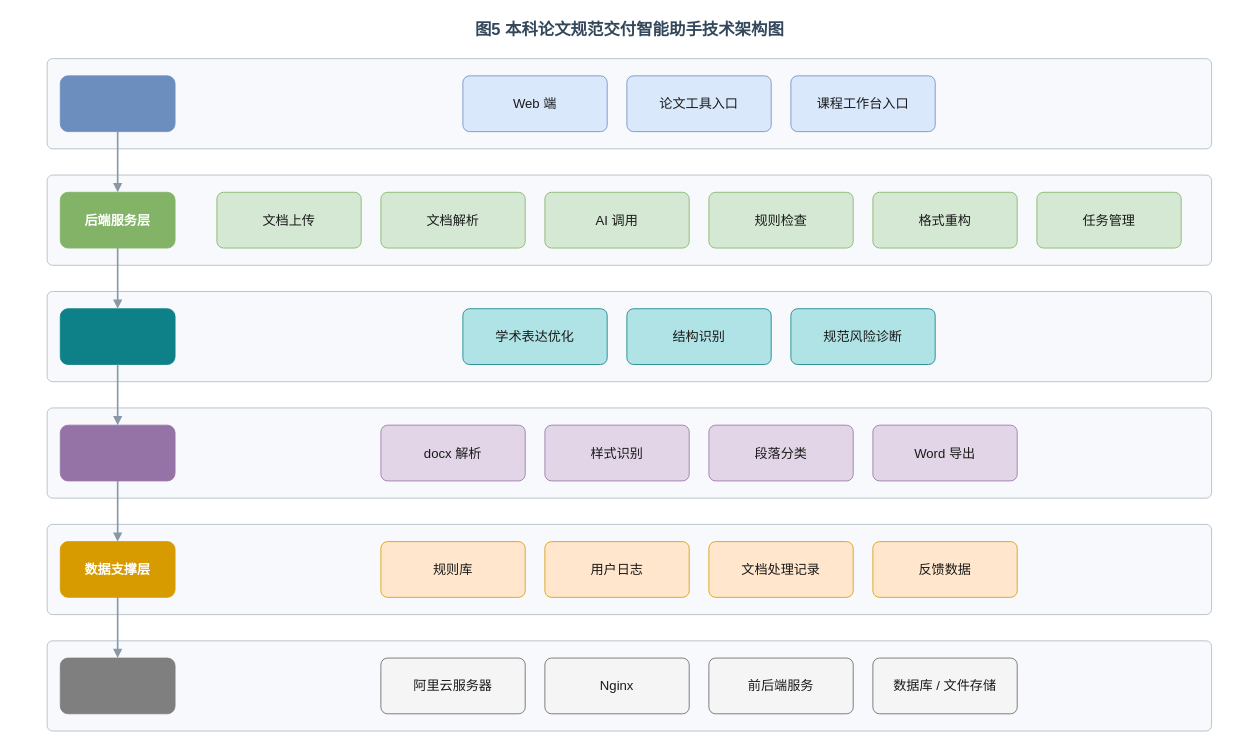
Image size: 1258x745. Some labels were removed from this diagram. Here are the shapes that lost their labels. From the top down, the box of each, then its label:
(59, 75, 175, 132): 前端界面层
(59, 308, 175, 364): 智能服务层
(59, 424, 175, 481): 文档处理层
(59, 657, 175, 714): 部署层
